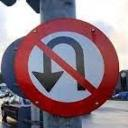NoVirarU: (13, 14, 119, 119)
